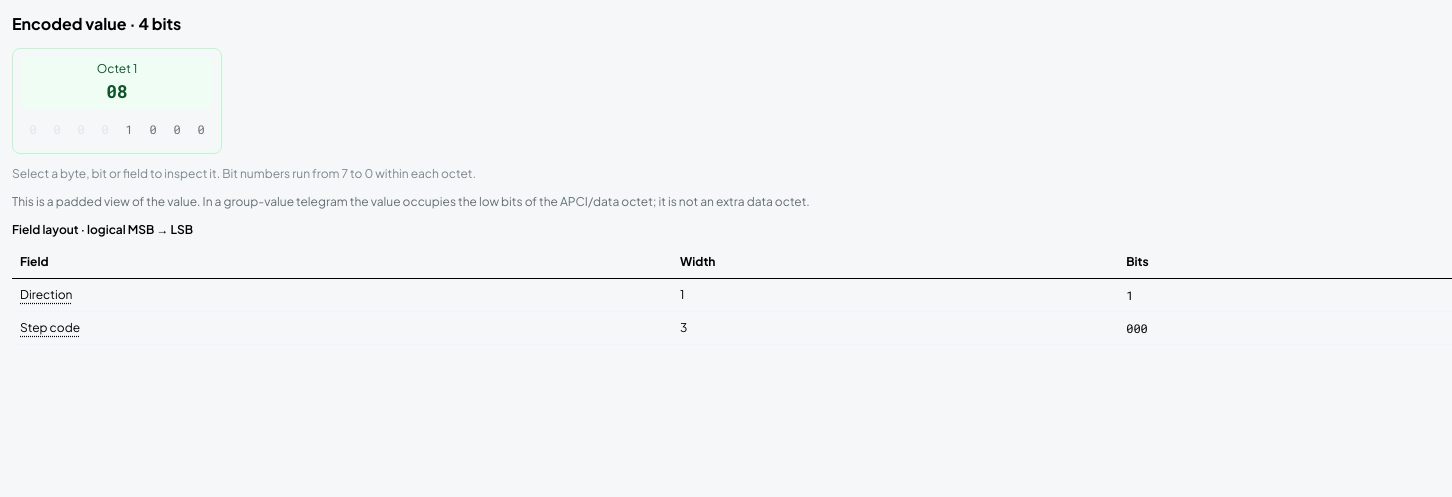
Scenario: padding bits are disabled and a byte can select multiple fields
The image size is (1452, 497).
Click the button "Octet 1 08" at (117, 83), box left=21, top=57, right=213, bottom=109
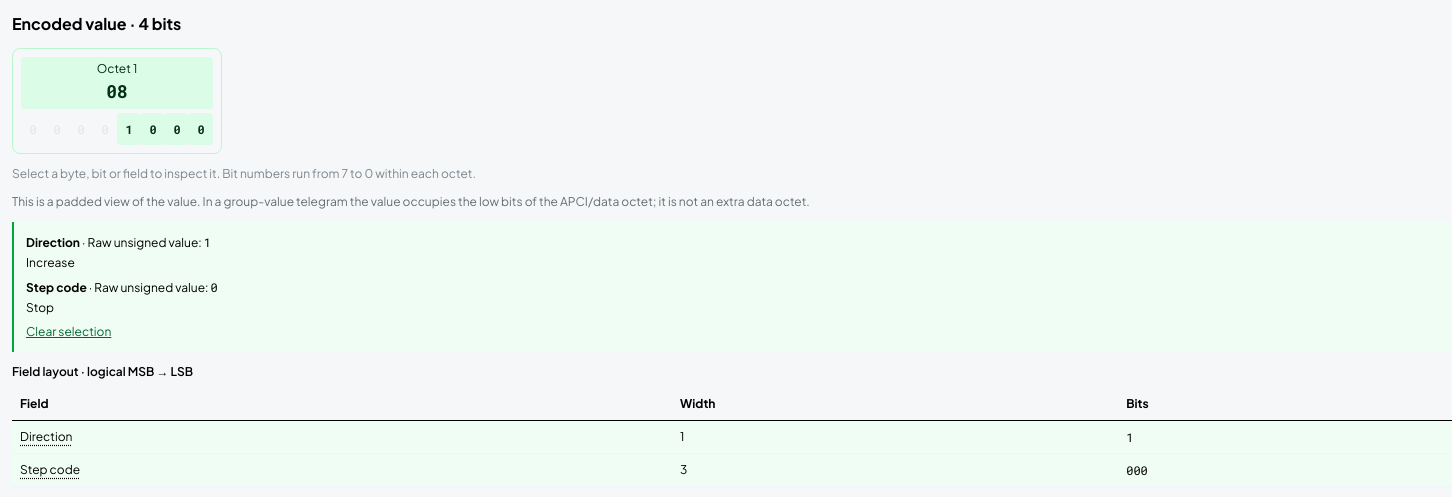
Check: the message shows "Direction", box left=26, top=235, right=80, bottom=250
Check: the message shows "Step code", box left=26, top=280, right=87, bottom=295
